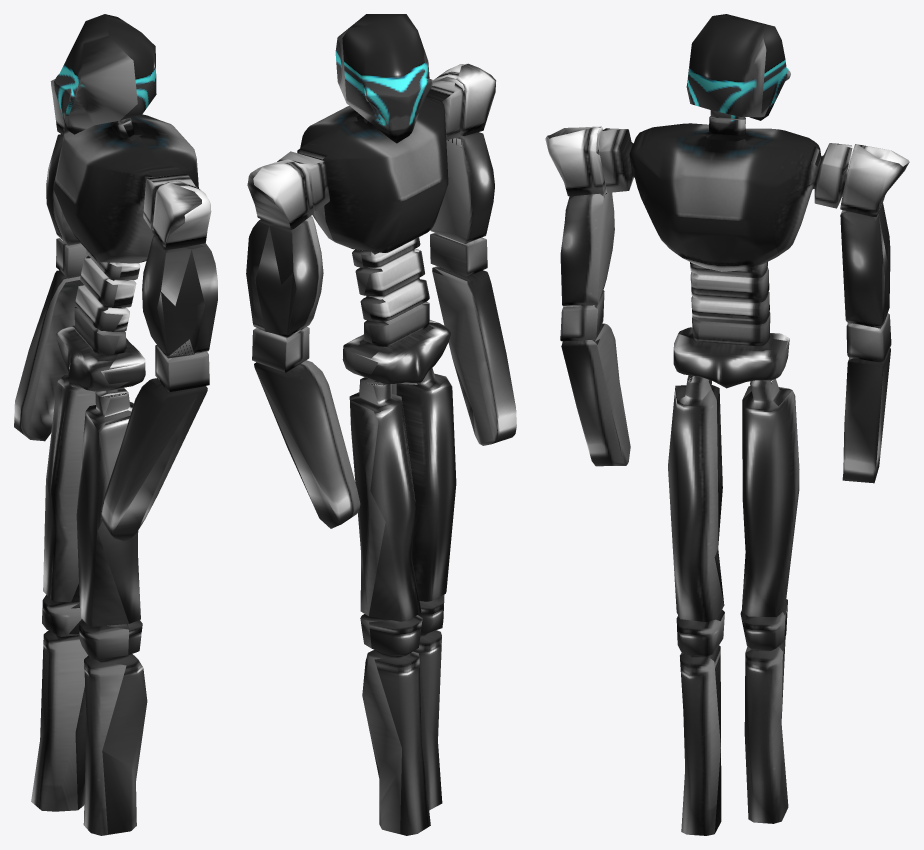
File: frame_004.obj
3 renders of one model, left to right at view 1: azimuth 30°, elevation 25°; view 2: azimuth 150°, elevation 25°; view 3: azimuth 270°, elevation 25°, orthographic. The views are drawn at different scales.
Parts seen in each view (by area): view 1: Cyborg, PierzaI, PiernaD, Cabeza, BrazoD, AntebrazoD; view 2: Cyborg, PiernaD, PierzaI, AntebrazoD, Cabeza, BrazoD; view 3: Cyborg, PierzaI, PiernaD, AntebrazoD, Cabeza, BrazoD.
Boxes of the visible parts, x1,y1,x2,y2 form: Cyborg: (53,114,217,541); PierzaI: (76,387,147,835); PiernaD: (31,375,95,811); Cabeza: (54,14,156,134); BrazoD: (14,270,83,441); AntebrazoD: (46,79,88,278); Cyborg: (277,63,516,445); PiernaD: (349,377,430,835); PierzaI: (392,368,456,810); AntebrazoD: (246,159,323,372); Cabeza: (335,14,433,143); BrazoD: (254,360,360,528); Cyborg: (545,110,852,466); PierzaI: (668,375,724,835); PiernaD: (740,378,799,823); AntebrazoD: (840,144,909,362); Cabeza: (686,14,790,120); BrazoD: (842,348,890,483).
Bounding box in the file's own units: 4.55 × 24.73 × 10.05.
1 material, 1 textured.
